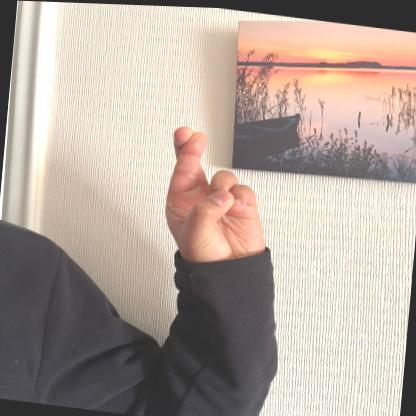R: (155, 120, 279, 276)
